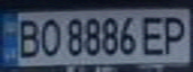6: (118, 12, 142, 56)
8: (81, 15, 103, 57), (100, 14, 121, 57), (63, 15, 84, 57)
B: (12, 16, 42, 60)
E: (139, 12, 172, 57)
O: (36, 16, 63, 57)
P: (157, 12, 193, 56)
